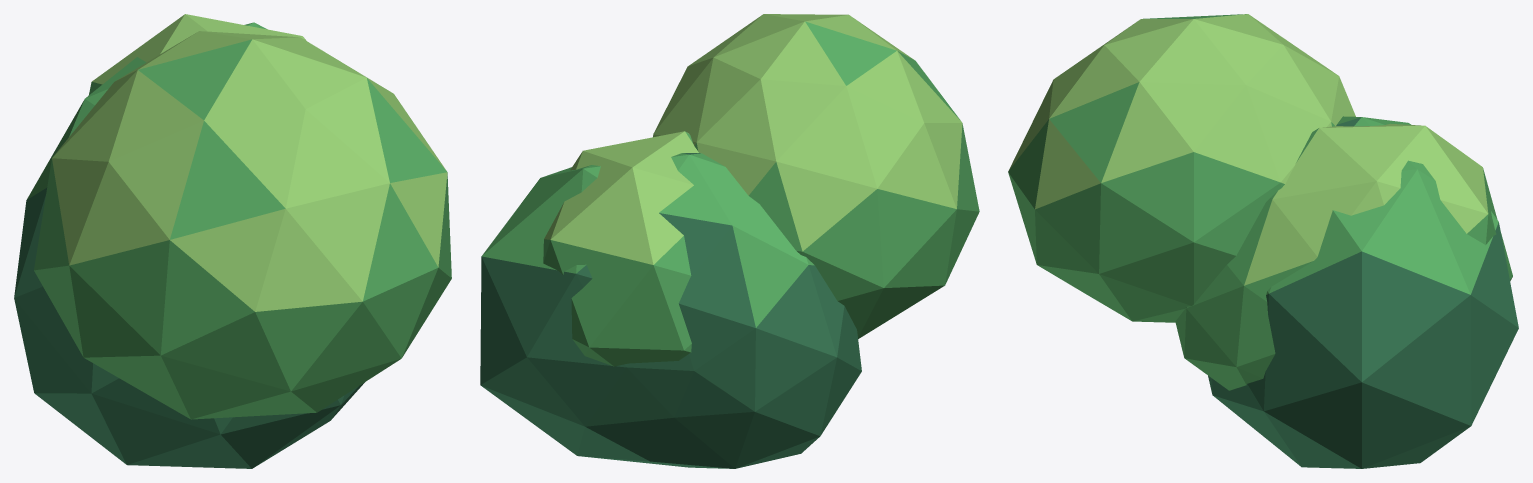
The model's file is bush_round_b.glb.
3 renders of one model, left to right at view 1: azimuth 30°, elevation 25°; view 2: azimuth 150°, elevation 25°; view 3: azimuth 270°, elevation 25°, orthographic. The views are drawn at different scales.
Visible parts, largest first — view 1: BushRoundB; view 2: BushRoundB; view 3: BushRoundB.
Part boxes in pixels (box(x1,y1,x2,y2)): BushRoundB: box(14, 14, 451, 468); BushRoundB: box(480, 14, 979, 468); BushRoundB: box(1008, 14, 1518, 468).
Bounding box in the file's own units: 1.36 × 1.35 × 1.57.
